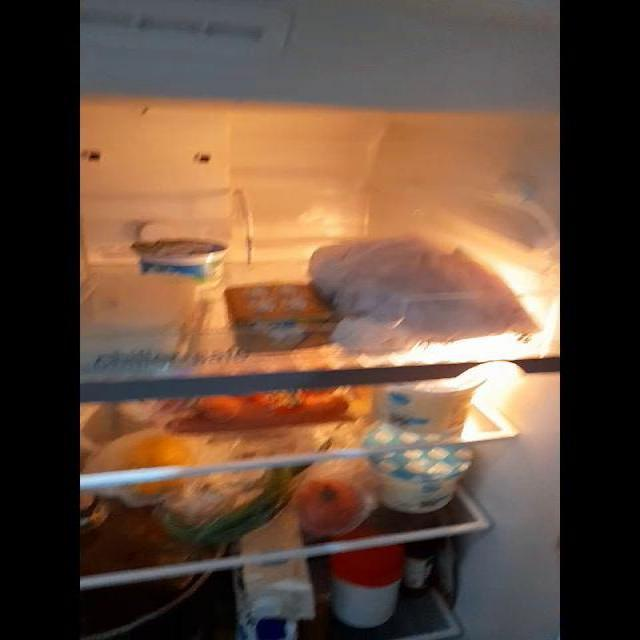butter: (227, 285, 331, 347)
carrot: (178, 394, 346, 427)
cheese: (82, 274, 194, 363)
green chilies: (167, 471, 297, 538)
lemon: (120, 437, 191, 467)
milk: (237, 565, 311, 636)
tomato: (296, 479, 364, 529)
yoghurt: (368, 435, 471, 509), (377, 380, 471, 432), (133, 237, 227, 279)
